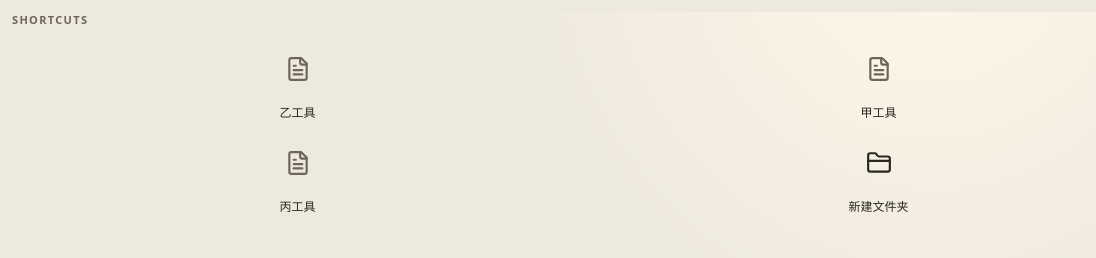
Test: ShortcutsWidget 快捷方式文件夹（类手机桌面） › 新建文件夹重名避让：已有「新建文件夹」时新默认名带 (2) 后缀
The width and height of the screenshot is (1096, 258).
Right-click the button "甲工具" at (878,112), box [860, 56, 896, 121]
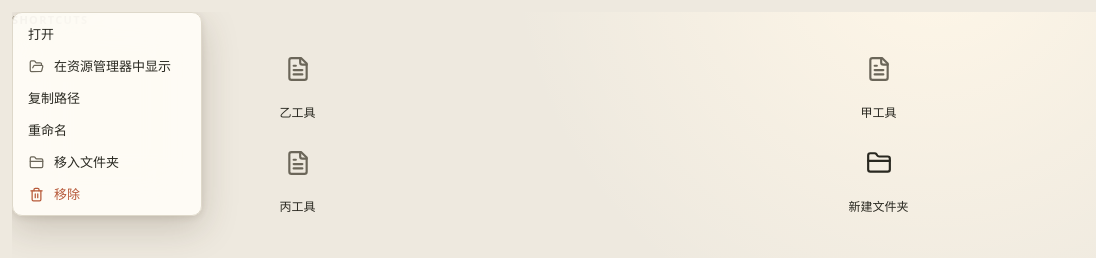
Click the menu item "移入文件夹" at (107,162), box [18, 146, 196, 178]
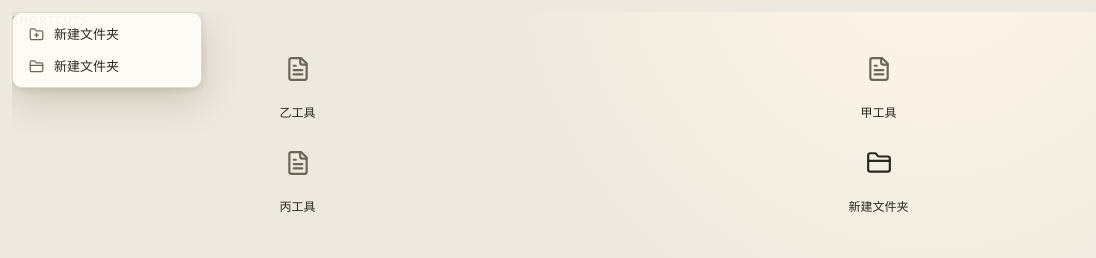
// 菜单里「新建文件夹」动作项与同名既有文件夹磁贴条目并存：动作项渲染在前。
Click the 1st menu item "新建文件夹" at (107,34), box [18, 18, 196, 50]
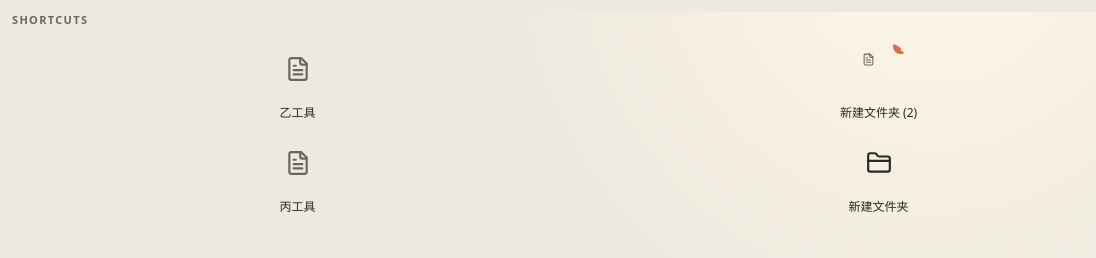
Check: the text "新建文件夹 (2)" is shown, box [840, 103, 917, 121]
